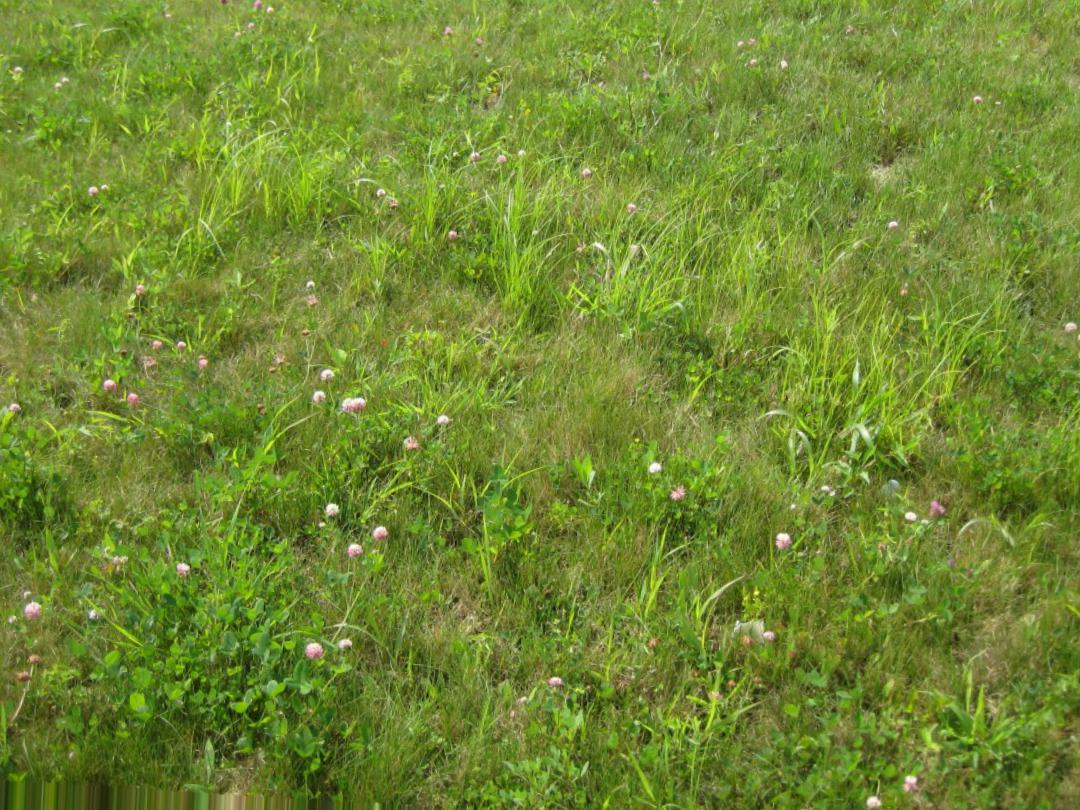patch: (32, 294, 247, 452), (469, 327, 703, 453), (850, 461, 1011, 637), (379, 556, 561, 693)
